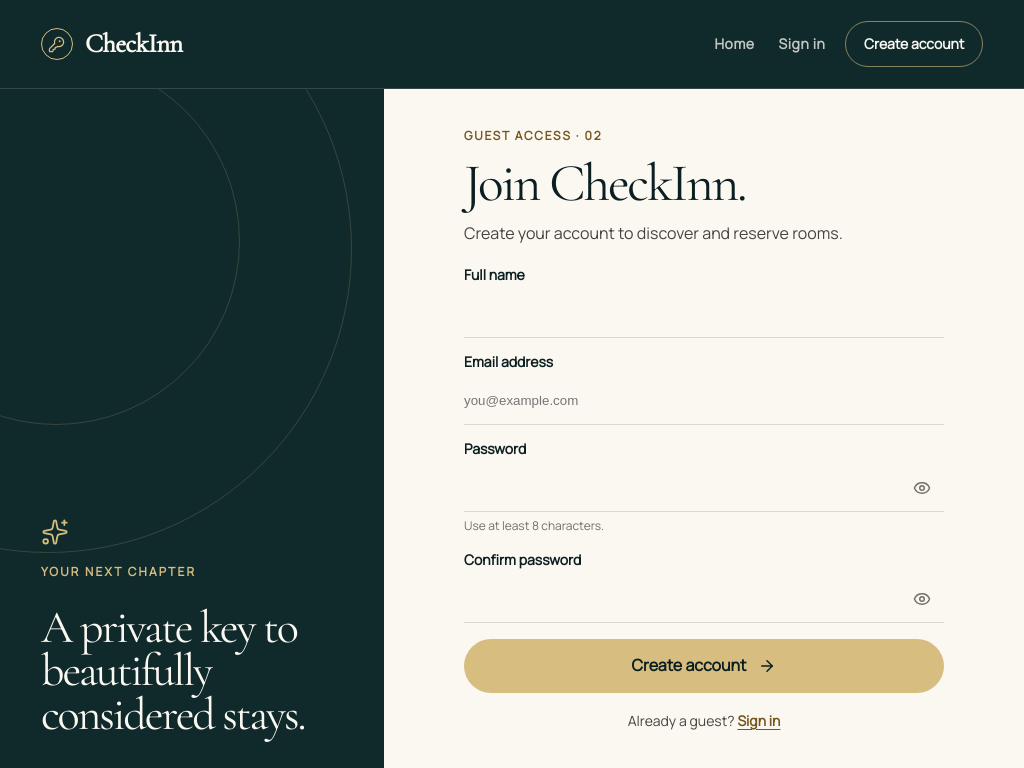
Test: authentication routes › reports duplicate registration errors without attempting login
In the field labelled "Full name": (704, 314) [464, 290, 944, 338], type "Avery Guest"
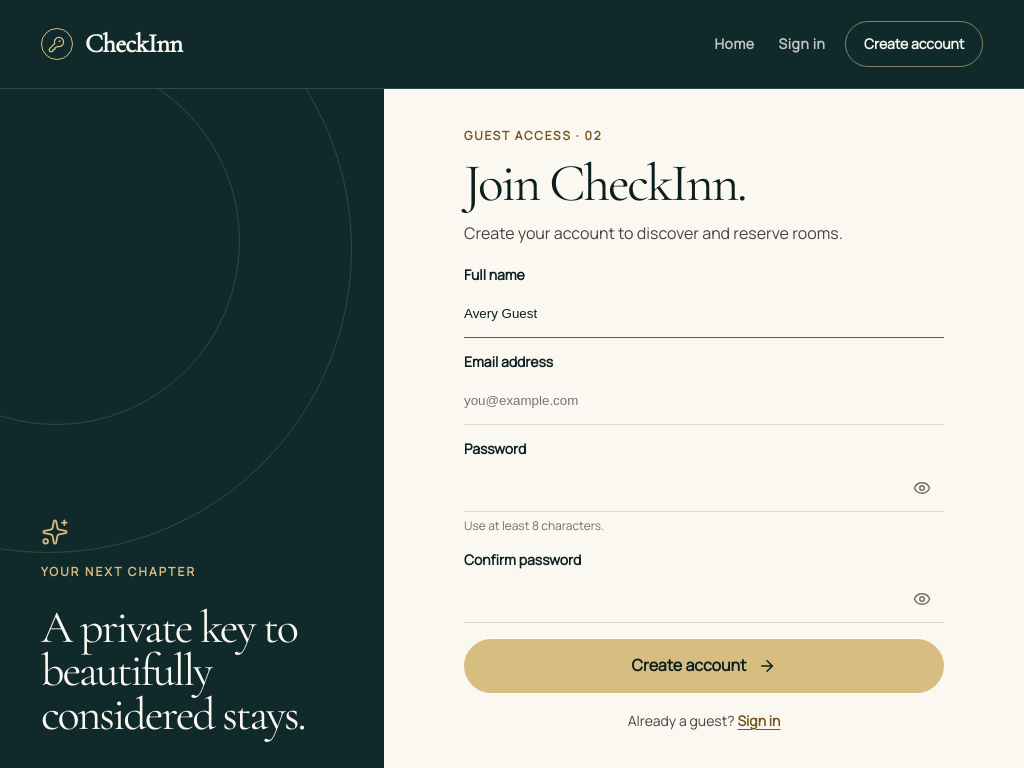
In the field labelled "Email address": (704, 401) [464, 377, 944, 425], type "avery@example.com"
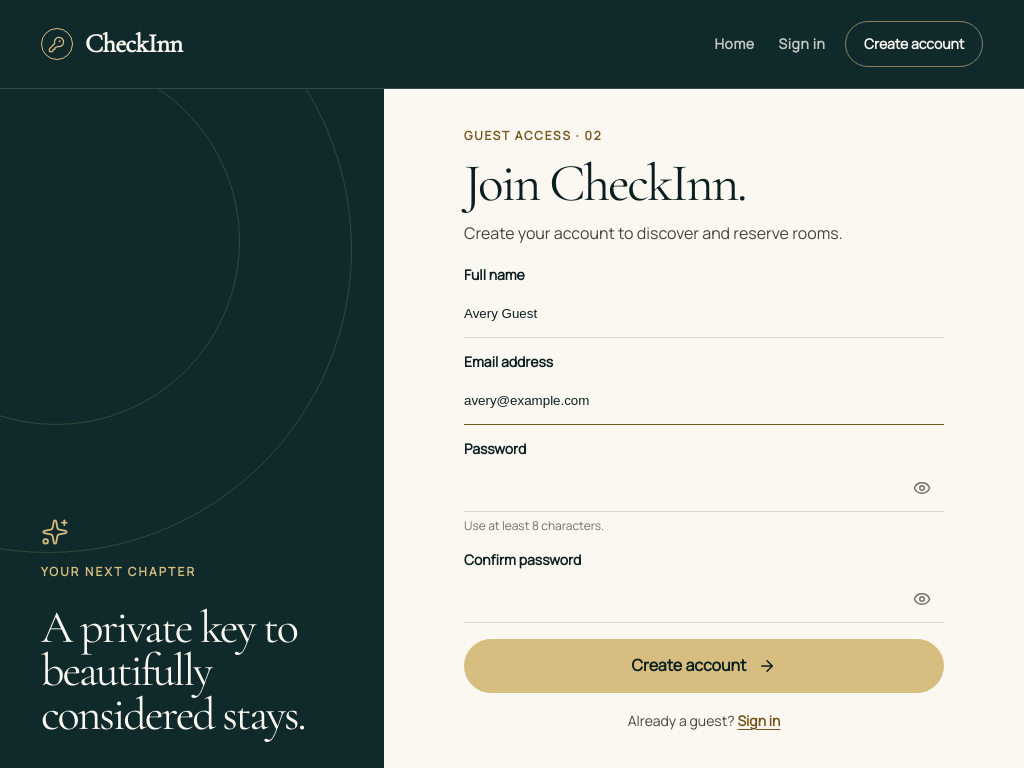
In the password field labelled "Password": (704, 488) [464, 464, 944, 512], type "Password123!"
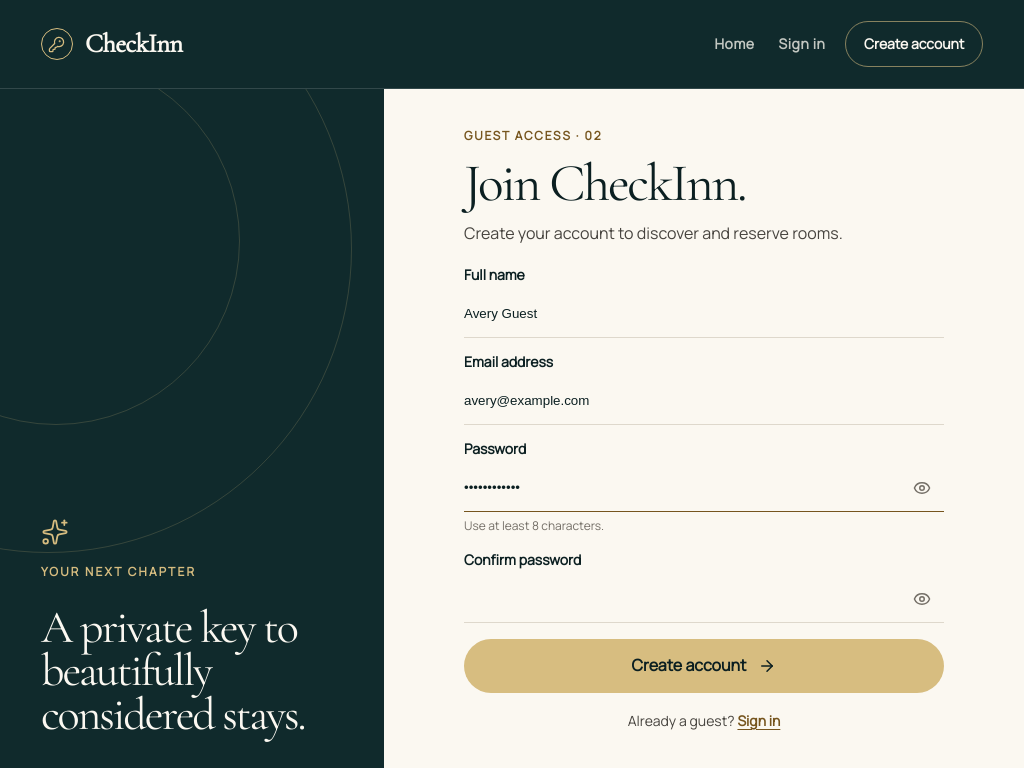
In the password field labelled "Confirm password": (704, 599) [464, 575, 944, 623], type "Password123!"
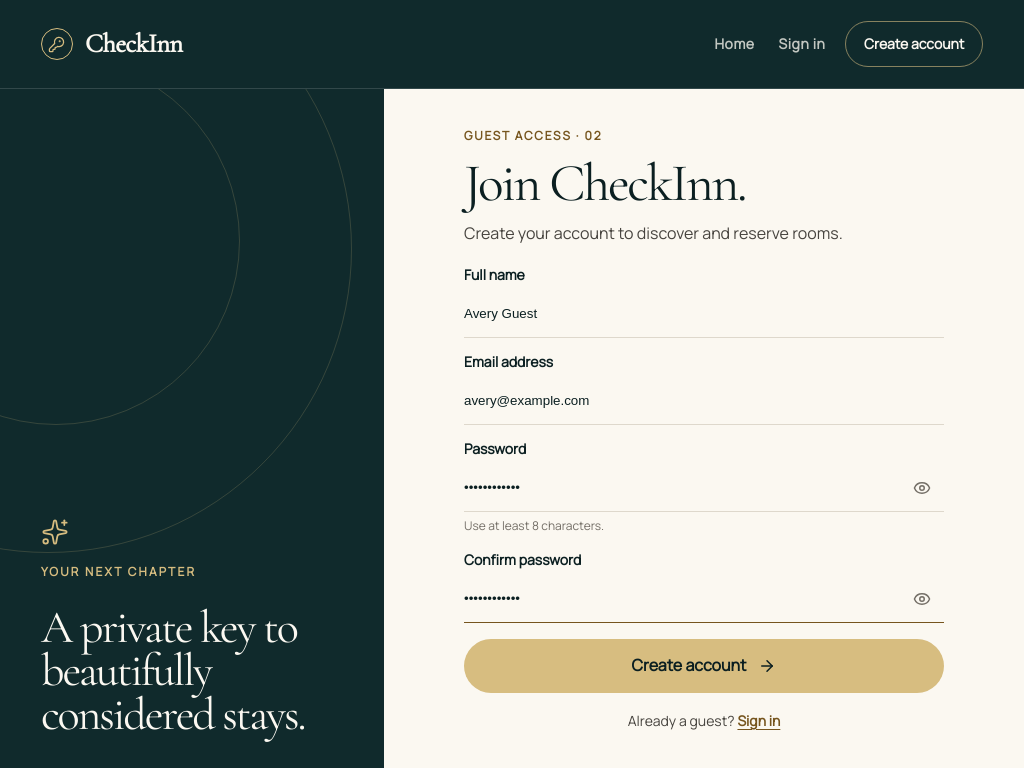
Click the button "Create account": (704, 666) [464, 639, 944, 693]
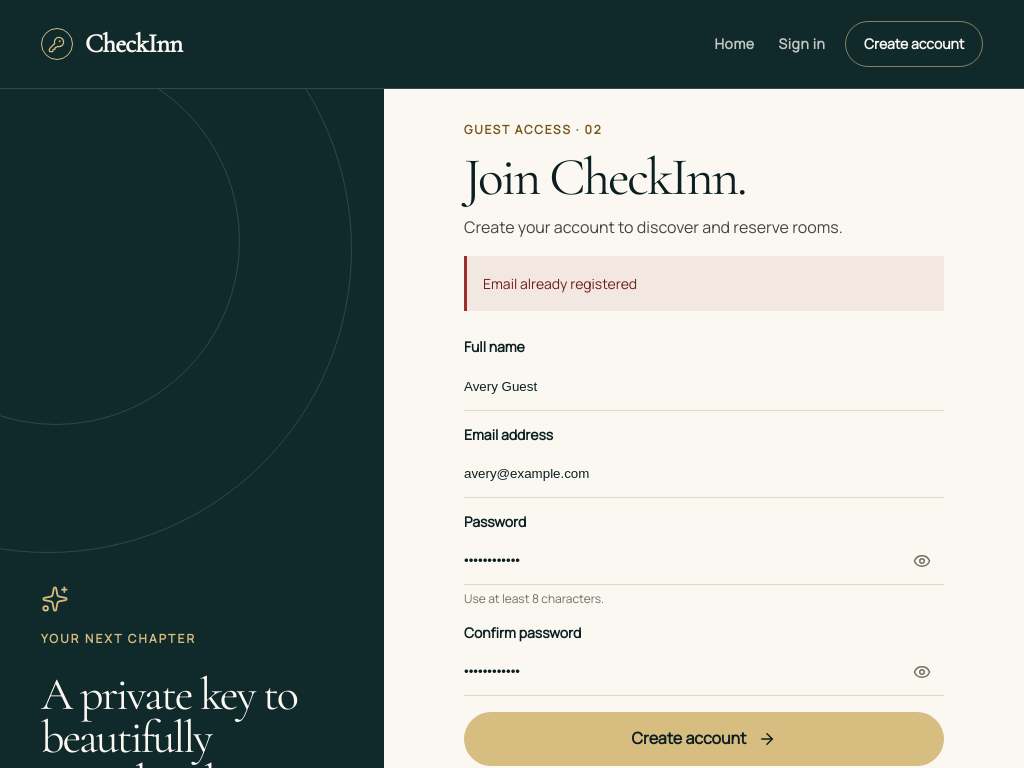
Check: the text "Email already registered" is shown, box [464, 256, 944, 312]
